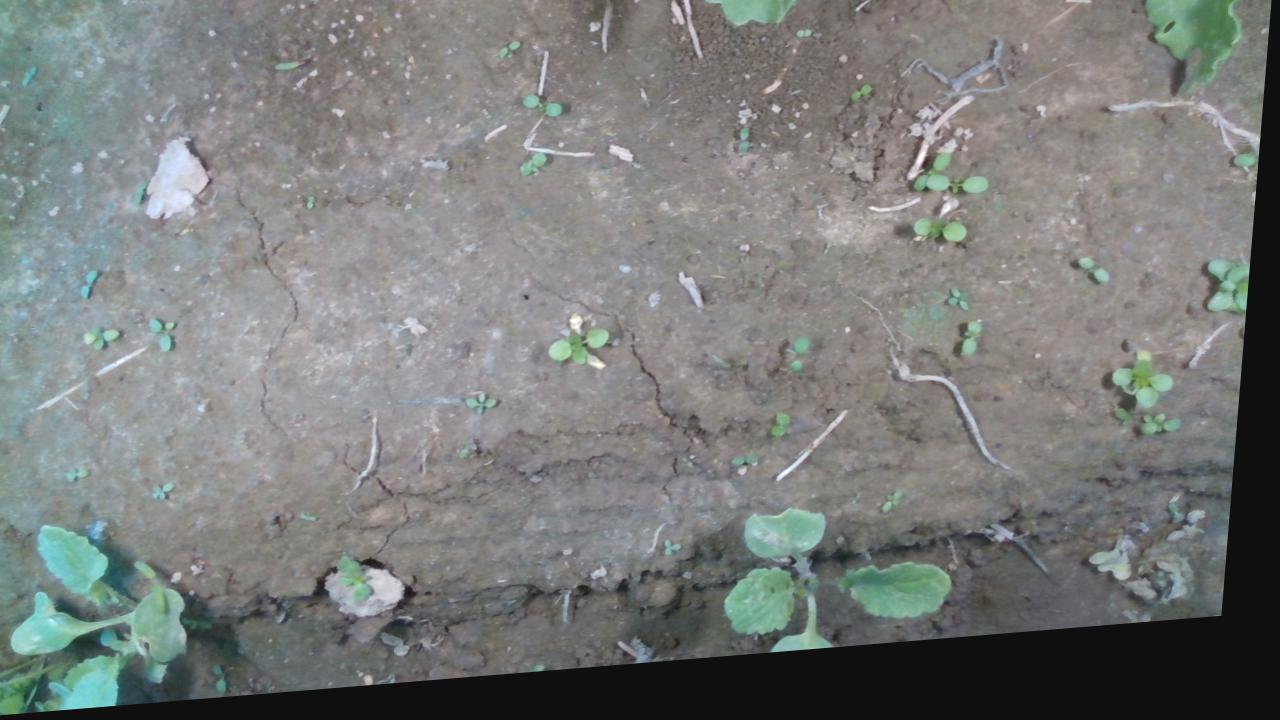weed: (553, 336, 616, 378), (914, 228, 973, 261), (522, 98, 566, 129), (84, 323, 129, 353), (150, 318, 182, 358), (1080, 272, 1120, 304), (788, 348, 816, 386), (966, 334, 989, 376), (470, 399, 507, 425), (518, 160, 550, 185), (82, 269, 105, 302), (889, 501, 915, 529), (951, 300, 976, 328), (778, 424, 798, 450), (497, 47, 523, 66), (740, 137, 755, 168), (158, 484, 183, 502), (735, 466, 768, 479), (852, 98, 876, 115), (74, 466, 98, 483), (671, 549, 691, 568)
